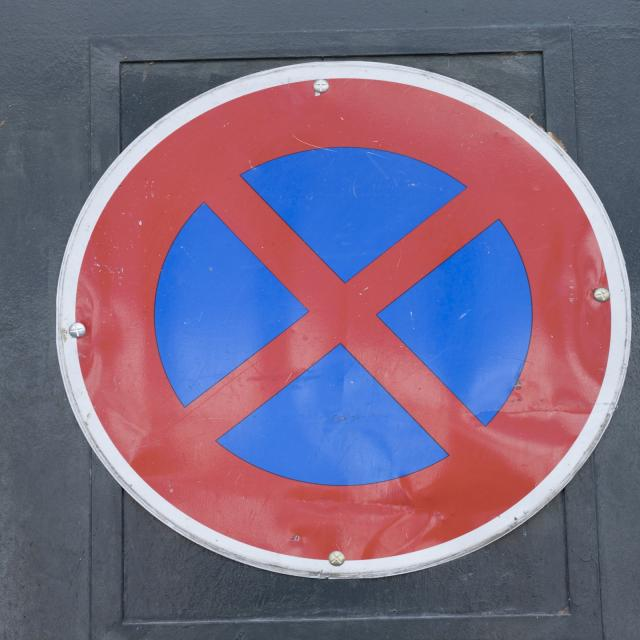no stopping: (38, 51, 636, 596)
